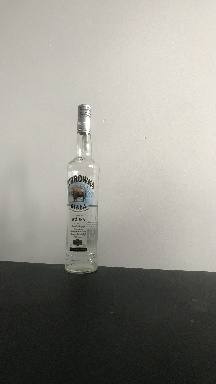butelka: (63, 100, 99, 276)
